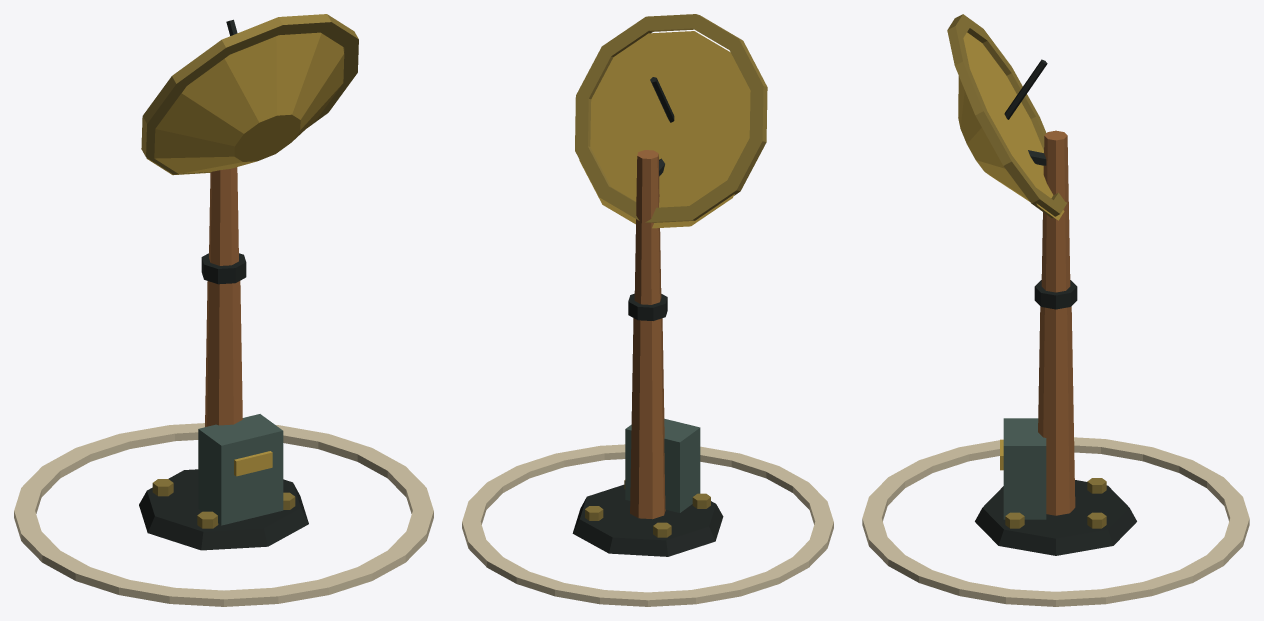
The model's file is radio_cache.glb.
3 renders of one model, left to right at view 1: azimuth 30°, elevation 25°; view 2: azimuth 150°, elevation 25°; view 3: azimuth 270°, elevation 25°, orthographic. The views are drawn at different scales.
Visible parts, largest first — view 1: RadioMast, RadioPulse; view 2: RadioMast, RadioPulse; view 3: RadioMast, RadioPulse.
Part boxes in pixels (x1,y1,x2,y2): RadioMast: [139, 14, 358, 550]; RadioPulse: [14, 423, 433, 606]; RadioMast: [572, 14, 767, 556]; RadioPulse: [462, 444, 833, 606]; RadioMast: [947, 14, 1136, 555]; RadioPulse: [862, 437, 1249, 606].
Bounding box in the file's own units: 2 × 2.94 × 2.
